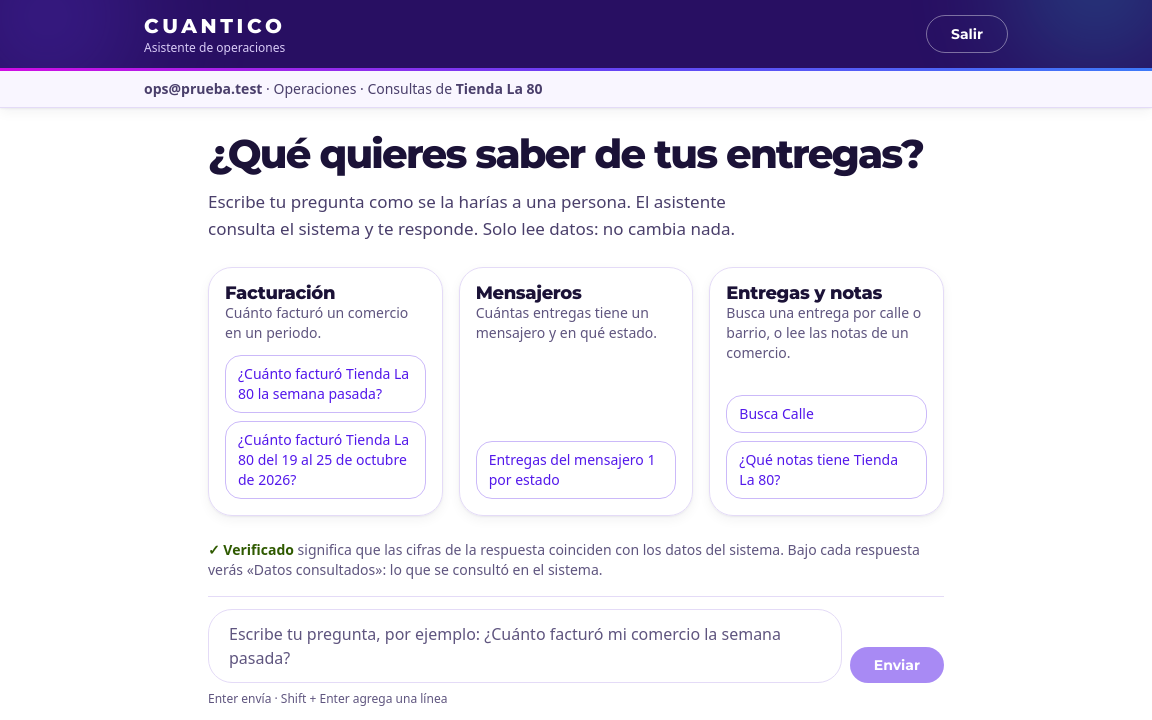
Test: ChatPage › marca las respuestas con cifras sin verificar
This screenshot has width=1152, height=720.
Type "x" into the text box named "Mensaje" at (525, 646), box [208,609,842,683]
Then press Enter
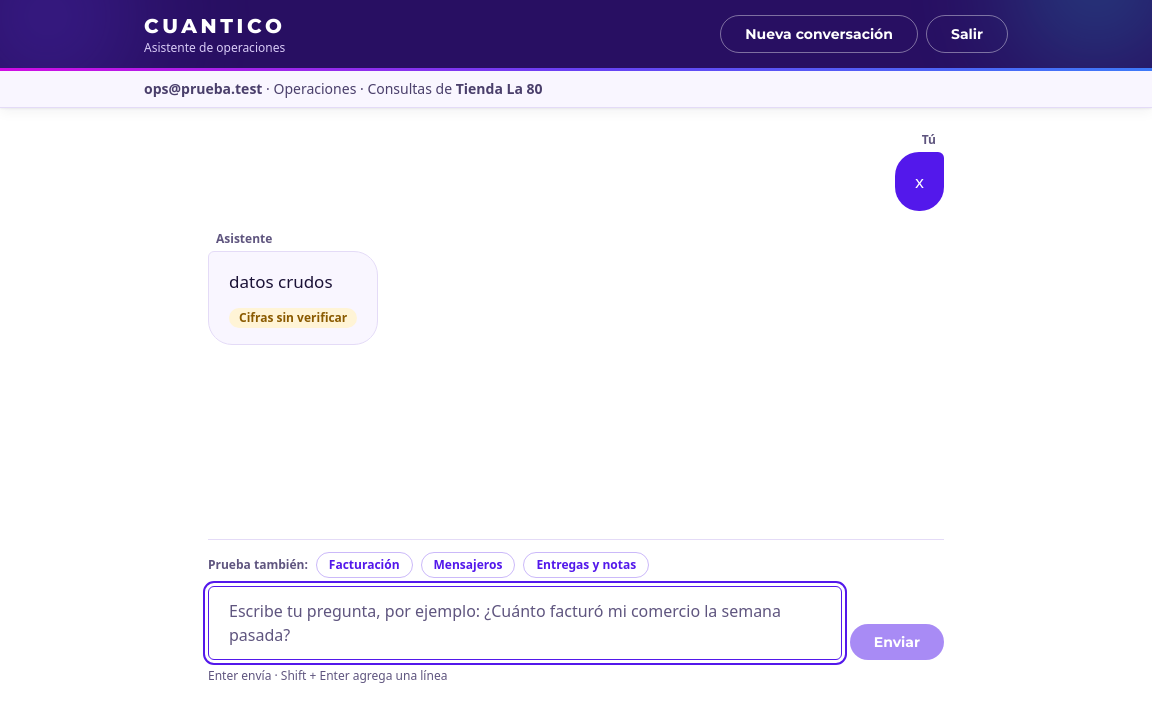
Check: the text "Cifras sin verificar" is shown, box [229,308,357,328]
